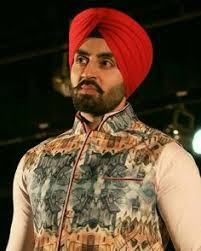helmet: (60, 10, 155, 124)
